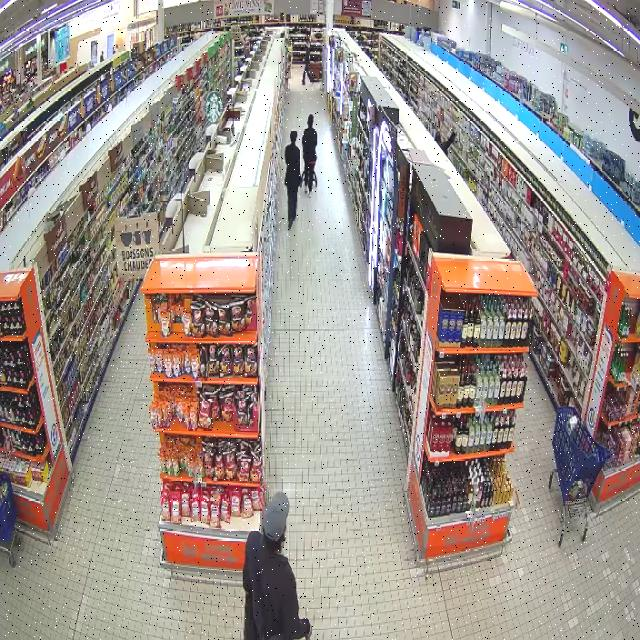person: (243, 493, 311, 639), (285, 131, 301, 228), (302, 114, 316, 194)
